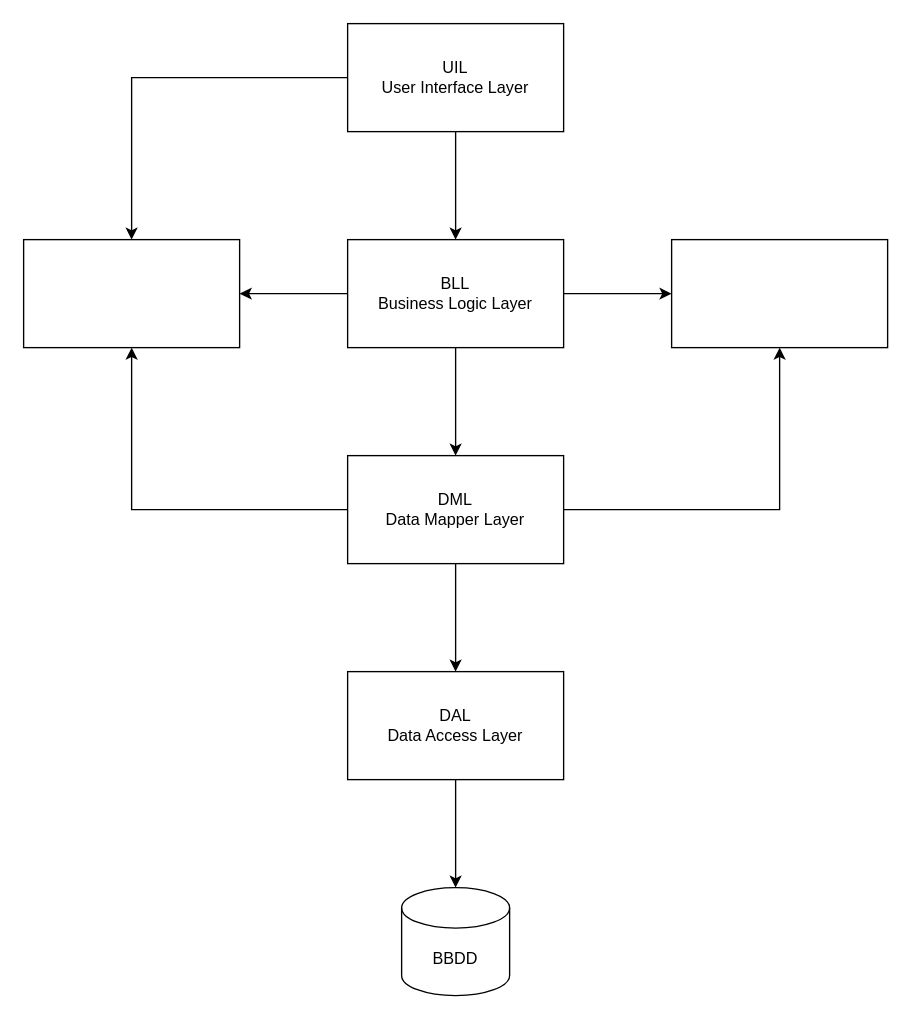
Image size: 911x1019. Some labels were removed from this diagram. The centre of each missing label's shape, as x and y in pixels:
"ABS Abstractions" belongs at pixel 779 293.
"BEL Business Entities Layer" belongs at pixel 131 293.
